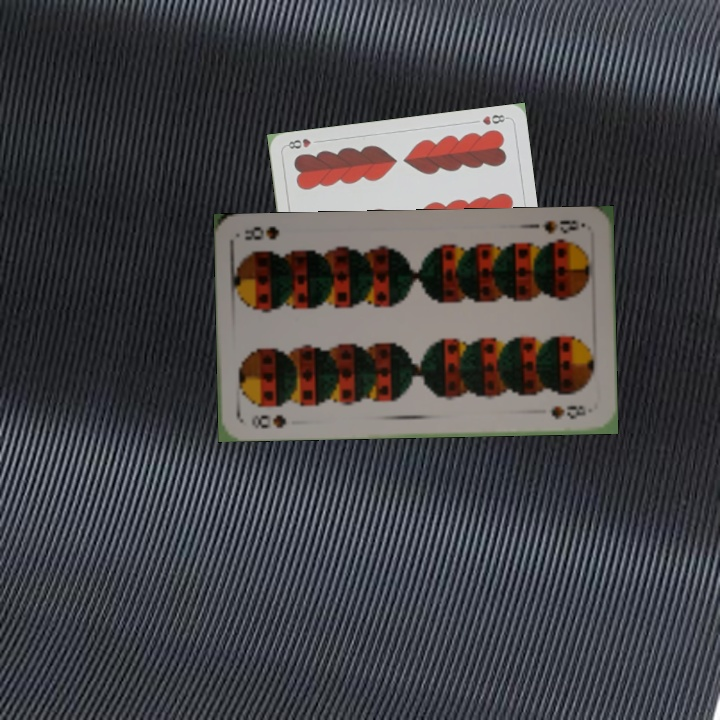H8: (478, 111, 510, 128)
S8: (539, 216, 588, 237), (247, 410, 289, 431)
